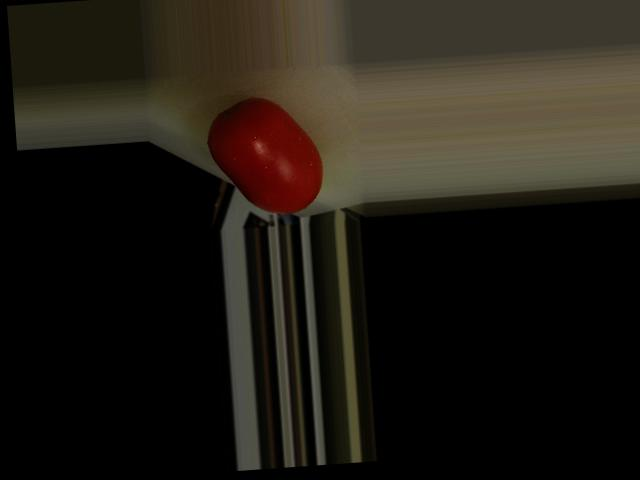tomato: (205, 93, 325, 219)
